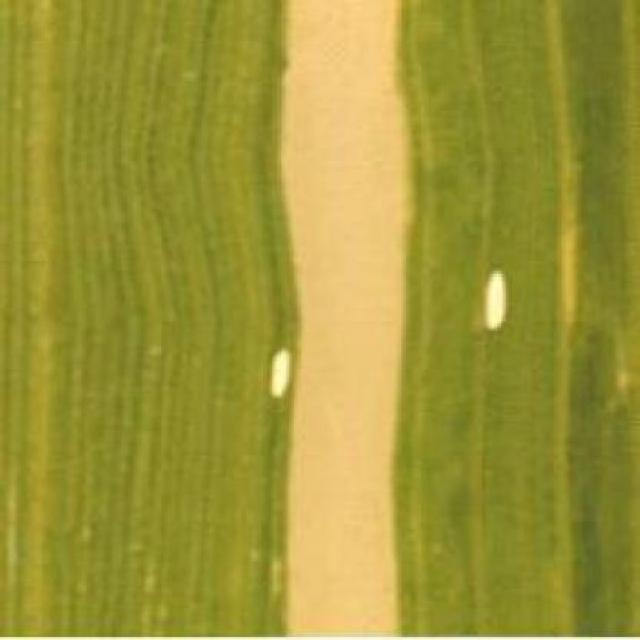whorl-maggot: (480, 258, 514, 352), (264, 331, 296, 412)
